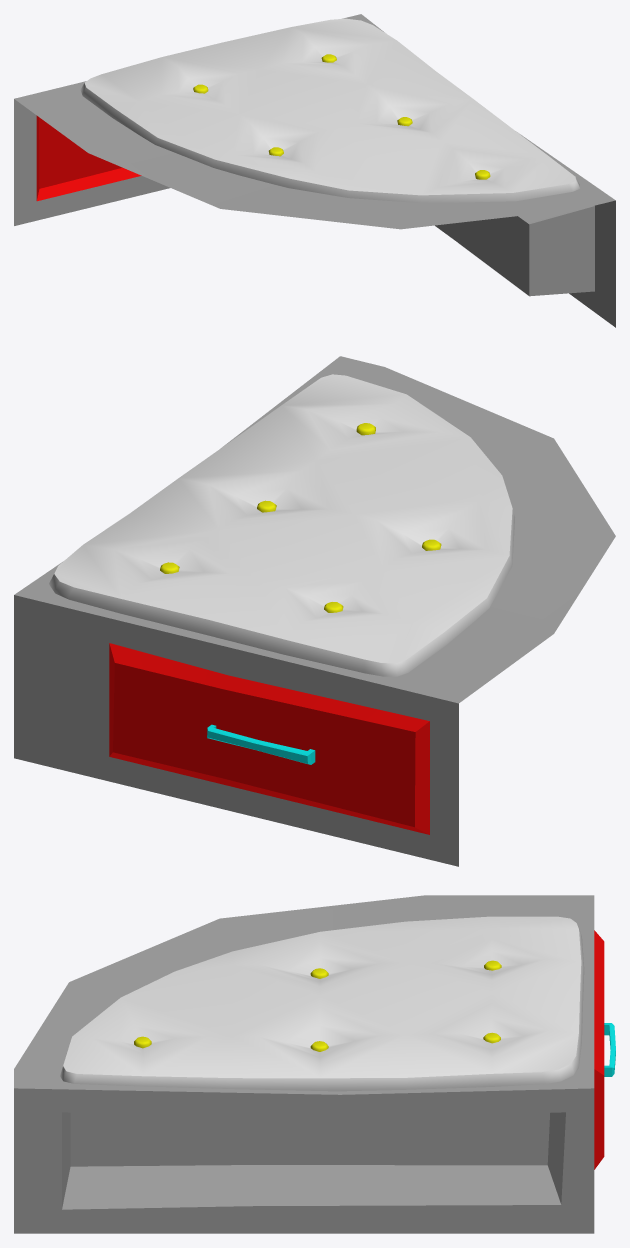
The model's file is BedRoom_Ottoman.fbx.
3 renders of one model, top to bottom at view 1: azimuth 30°, elevation 25°; view 2: azimuth 150°, elevation 25°; view 3: azimuth 270°, elevation 25°, orthographic. The views are drawn at different scales.
Parts seen in each view (by area): view 1: BedRoom_Ottoman; view 2: BedRoom_Ottoman; view 3: BedRoom_Ottoman.
Boxes of the visible parts, x1,y1,x2,y2 form: BedRoom_Ottoman: (14, 14, 615, 327); BedRoom_Ottoman: (14, 356, 615, 866); BedRoom_Ottoman: (14, 895, 615, 1233).
Bounding box in the file's own units: 199 × 77.4 × 262.
